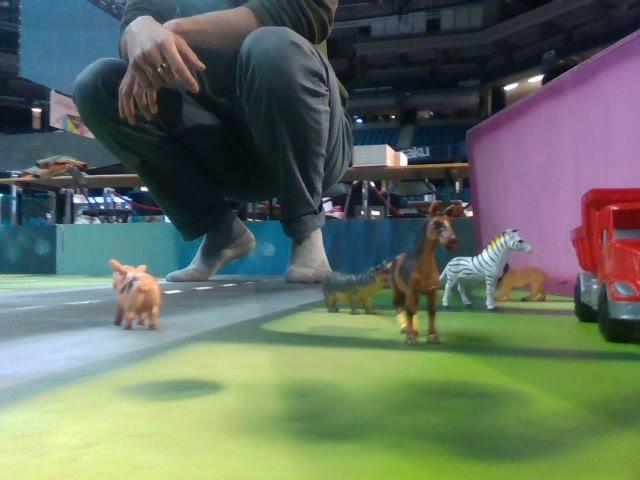toy: (100, 251, 166, 333)
